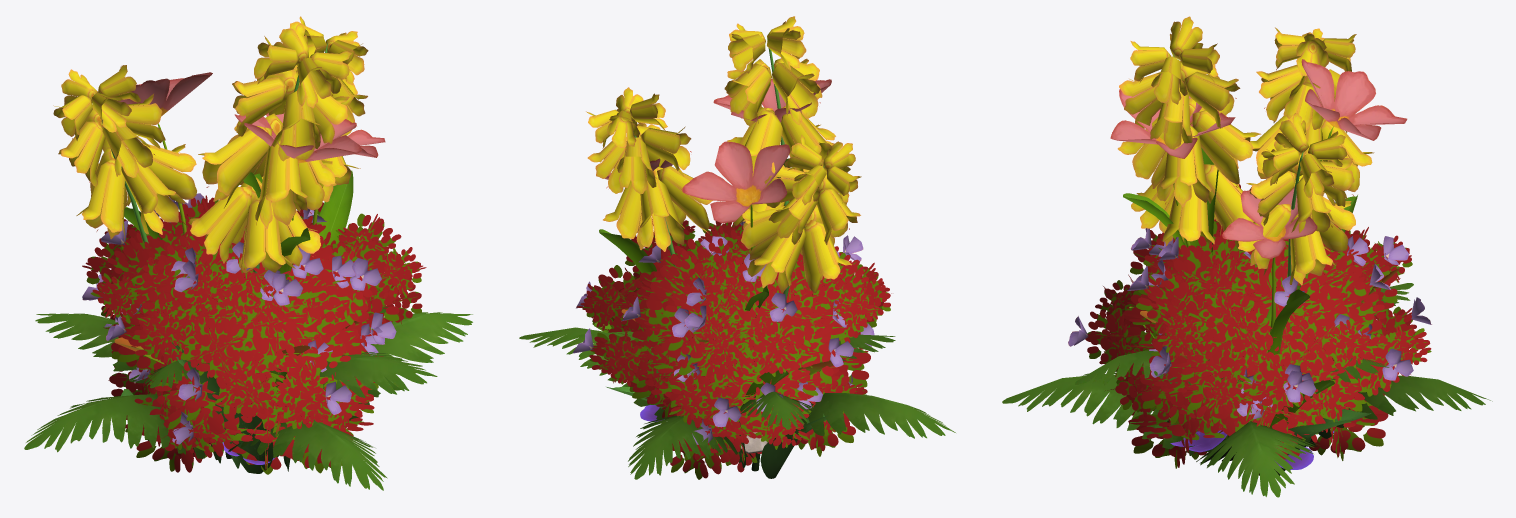
Rendered from plants.glb.
The picture shows the model from 3 angles, left to right: view 1: azimuth 30°, elevation 25°; view 2: azimuth 150°, elevation 25°; view 3: azimuth 270°, elevation 25°; orthographic projection. The views are drawn at different scales.
Parts seen in each view (by area): view 1: Flower_4_Group, Bush_Common, Bush_Common_Flowers, Fern_1, Flower_3_Group; view 2: Flower_4_Group, Bush_Common, Bush_Common_Flowers, Fern_1, Flower_3_Group; view 3: Bush_Common, Flower_4_Group, Bush_Common_Flowers, Fern_1, Flower_3_Group, Plant_7.
Part boxes in pixels (x1,y1,x2,y2): Flower_4_Group: (53,16,368,473); Bush_Common: (82,195,426,472); Bush_Common_Flowers: (82,193,421,474); Fern_1: (24,307,472,490); Flower_3_Group: (97,72,385,457); Flower_4_Group: (586,16,866,478); Bush_Common: (576,219,891,478); Bush_Common_Flowers: (573,221,890,479); Fern_1: (519,327,955,479); Flower_3_Group: (594,78,831,407); Bush_Common: (1085,184,1431,467); Flower_4_Group: (1117,16,1374,475); Bush_Common_Flowers: (1068,201,1431,468); Fern_1: (1002,283,1492,497); Flower_3_Group: (1110,59,1407,475); Plant_7: (1170,427,1334,469).
Bounding box in the file's own units: 2.83 × 2.66 × 2.65.
Materials: 5 (5 with a texture image).
